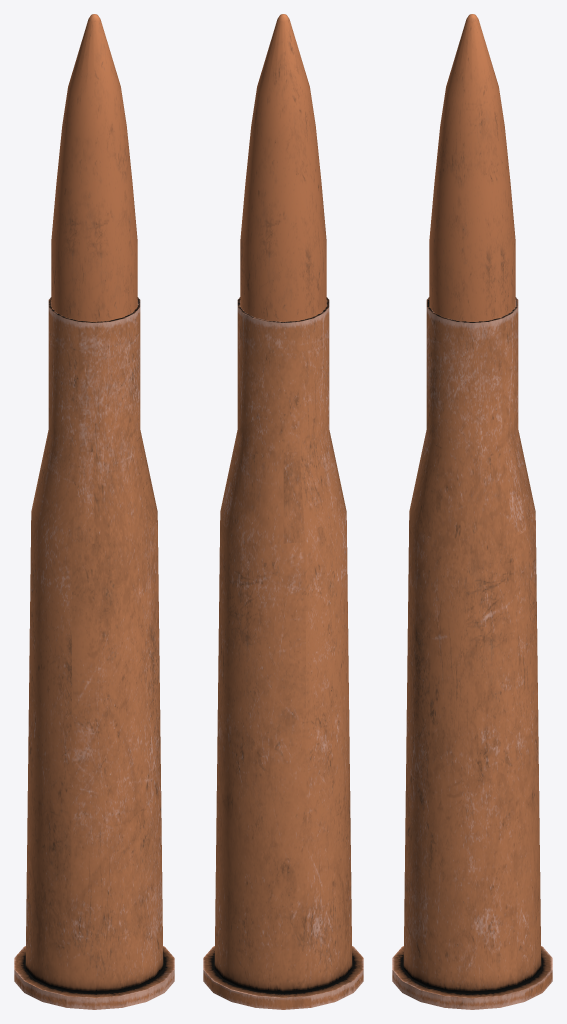
The model's file is bullet.glb.
3 renders of one model, left to right at view 1: azimuth 30°, elevation 25°; view 2: azimuth 150°, elevation 25°; view 3: azimuth 270°, elevation 25°, orthographic.
Size of the model in its own units: 0.055 by 0.3609 by 0.0542.
Materials: 2 (2 with a texture image).
